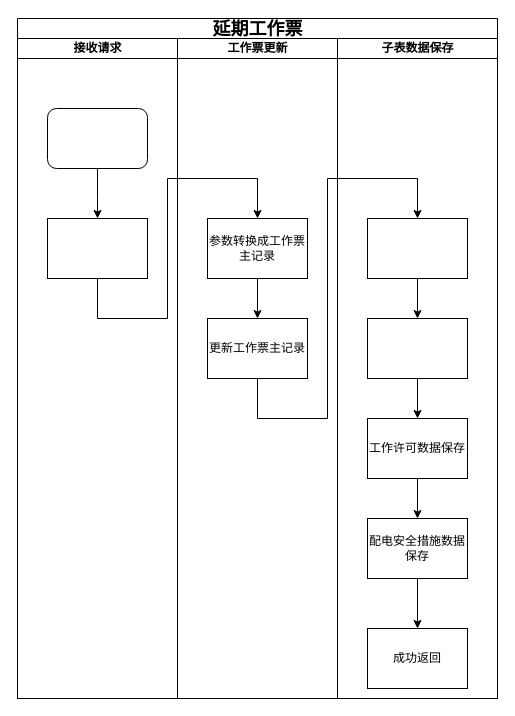
This 515x716 diagram has some shape labels left out. The centre of each missing label's shape, as x and y in pixels:
"安全措施记录保存" belongs at pixel 417 248.
"工作终结数据保存" belongs at pixel 417 348.
"开始" belongs at pixel 97 138.
"请求参数转换成工作票变更入参对象" belongs at pixel 97 248.
